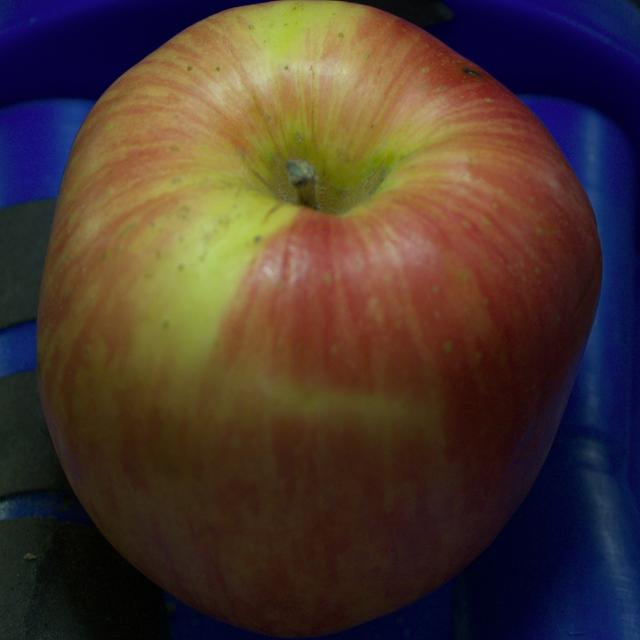apple: (37, 0, 602, 636)
pest: (463, 68, 481, 76)
